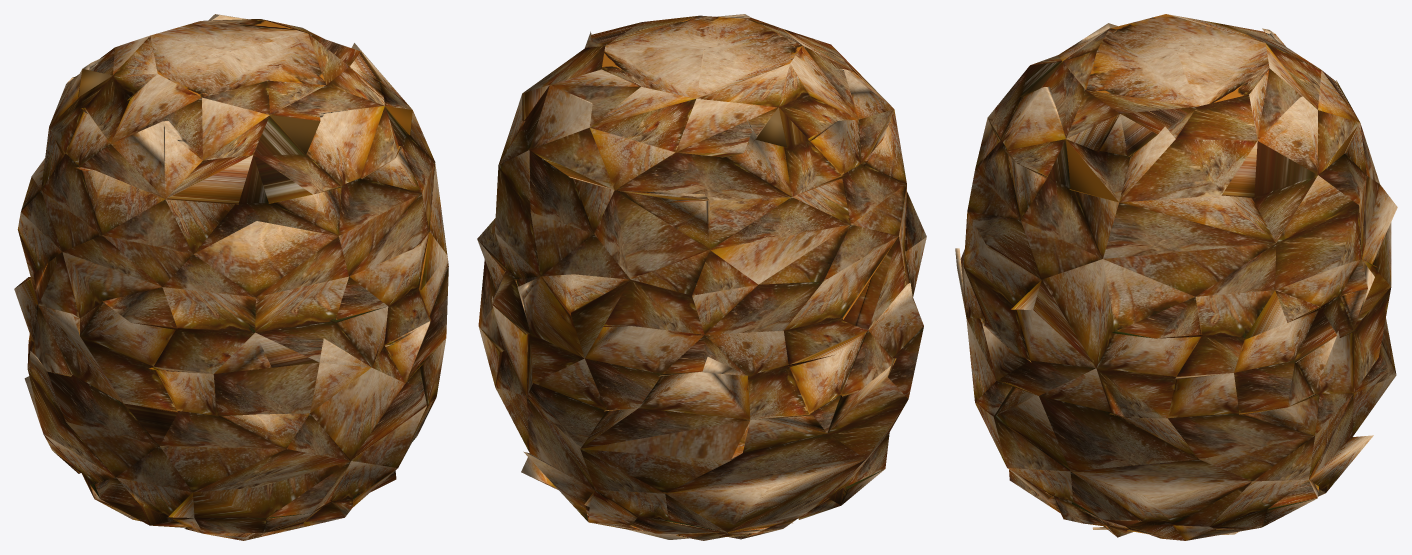
The model's file is ananas.FBX.
The picture shows the model from 3 angles, left to right: view 1: azimuth 30°, elevation 25°; view 2: azimuth 150°, elevation 25°; view 3: azimuth 270°, elevation 25°; orthographic projection.
Parts seen in each view (by area): view 1: NGon002; view 2: NGon002; view 3: NGon002.
Boxes of the visible parts, x1,y1,x2,y2 form: NGon002: (14,14,448,540); NGon002: (477,14,926,540); NGon002: (955,14,1397,540).
Bounding box in the file's own units: 31.33 × 35.85 × 31.37.
